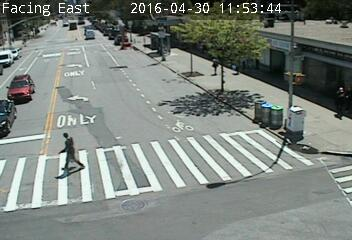neg: (113, 154, 143, 194), (240, 83, 270, 122), (89, 72, 117, 110), (174, 110, 202, 147), (308, 171, 335, 208), (57, 33, 83, 68), (14, 34, 40, 68), (303, 79, 328, 112), (278, 112, 302, 145), (107, 24, 131, 56), (216, 166, 238, 195), (166, 190, 188, 218), (158, 81, 176, 105)
pos: (45, 128, 83, 178), (321, 82, 349, 120), (206, 57, 225, 83)
